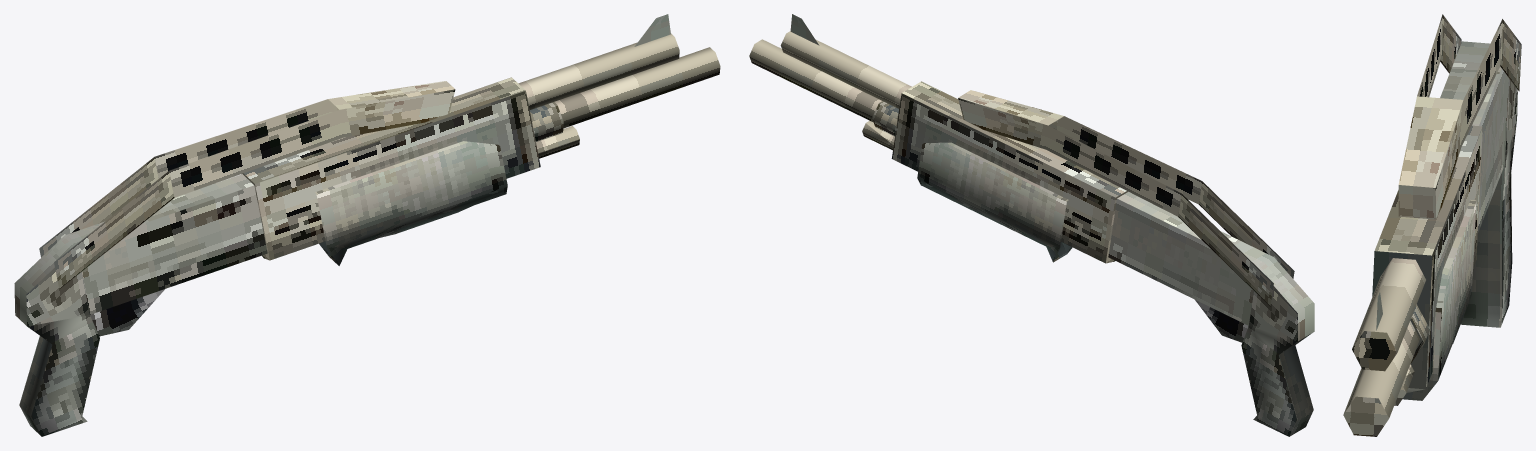
Rendered from Shotgspa.fbx.
The picture shows the model from 3 angles, left to right: view 1: azimuth 30°, elevation 25°; view 2: azimuth 150°, elevation 25°; view 3: azimuth 270°, elevation 25°; orthographic projection. The views are drawn at different scales.
Visible parts, largest first — view 1: shotgspa; view 2: shotgspa; view 3: shotgspa.
Boxes of the visible parts, x1,y1,x2,y2 form: shotgspa: [14, 14, 720, 436]; shotgspa: [749, 14, 1314, 436]; shotgspa: [1343, 14, 1521, 436].
Bounding box in the file's own units: 71.42 × 30.75 × 10.59.
Materials: 2 (2 with a texture image).
